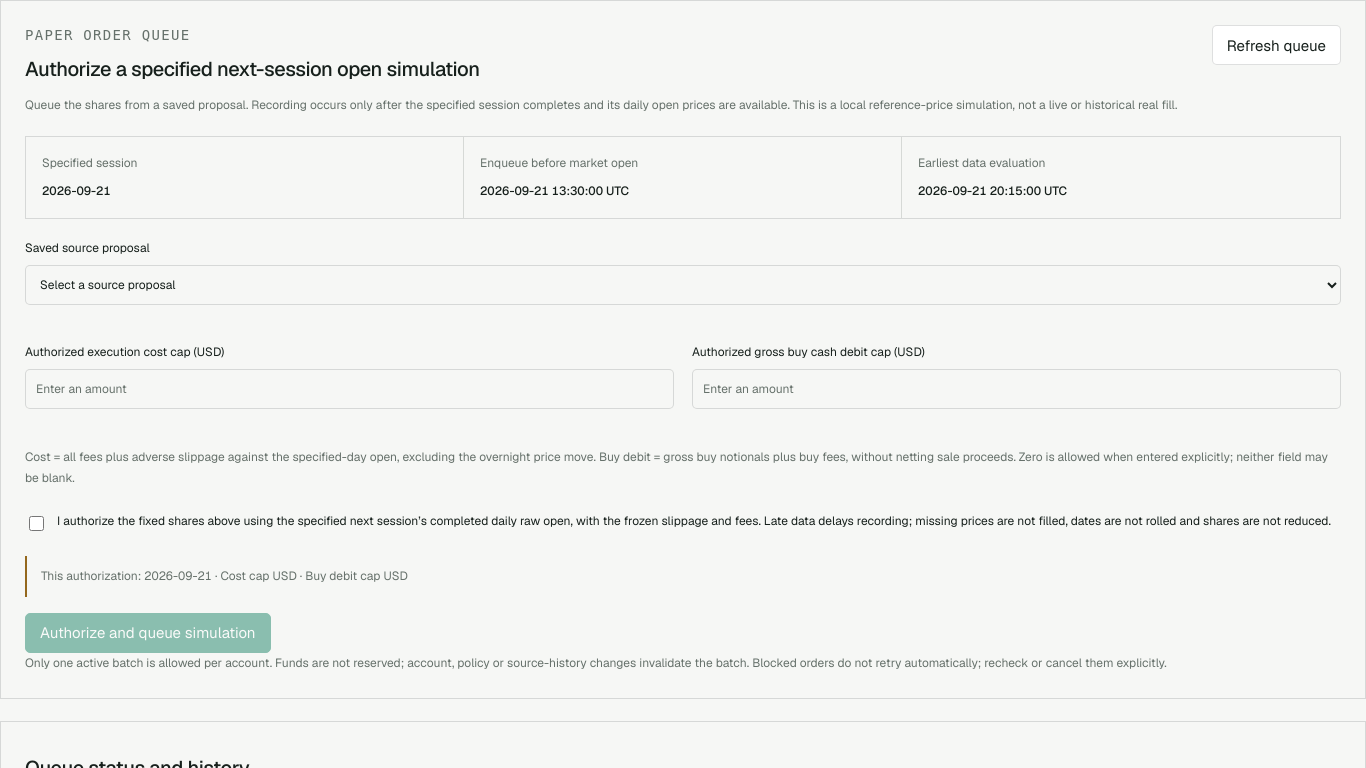
it: next-open paper queue › does not enqueue after the server-defined open cutoff even from an already rendered form
Select "synthetic-sour · 1 trades · Eligible" in the dropdown labelled "Saved source proposal" at (683, 285), box [25,265,1341,305]
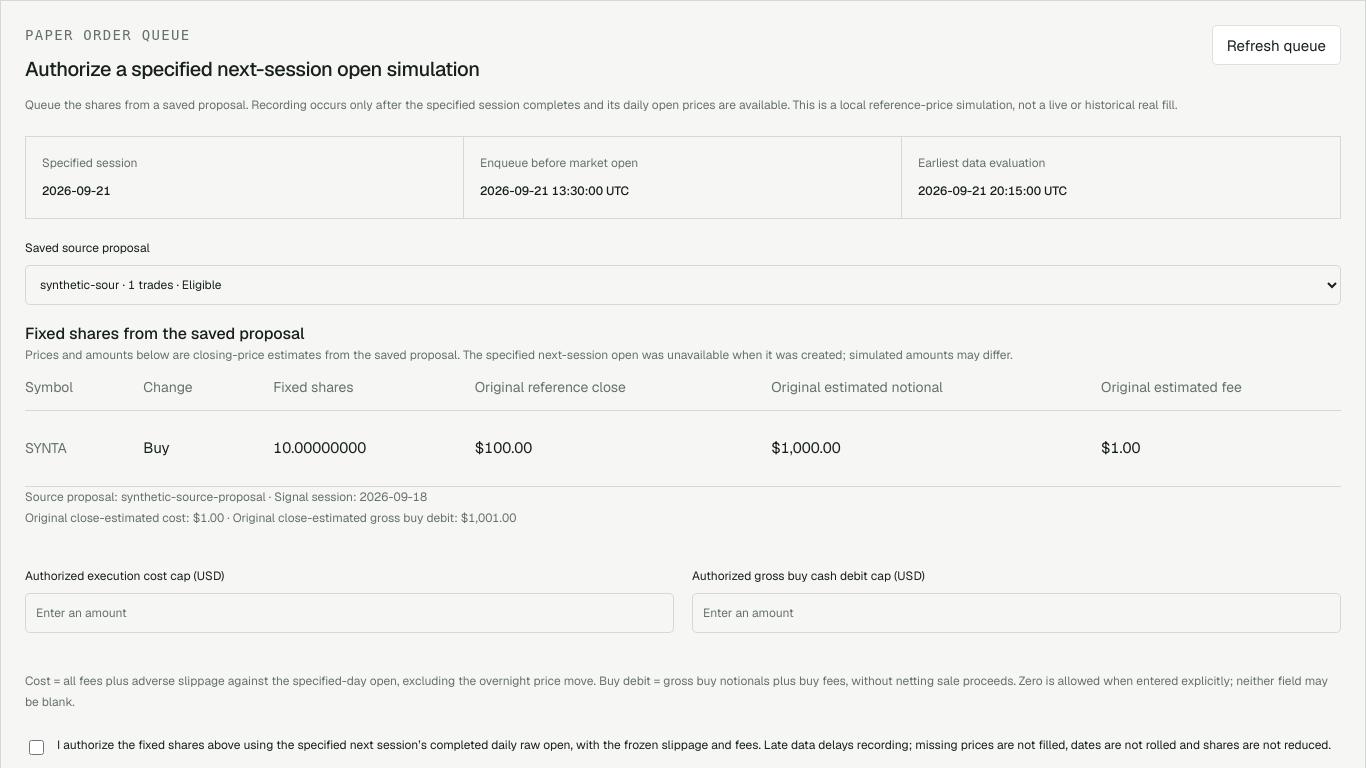
Type "20" into the field labelled "Authorized execution cost cap (USD)" at (350, 613), box [25,593,674,633]
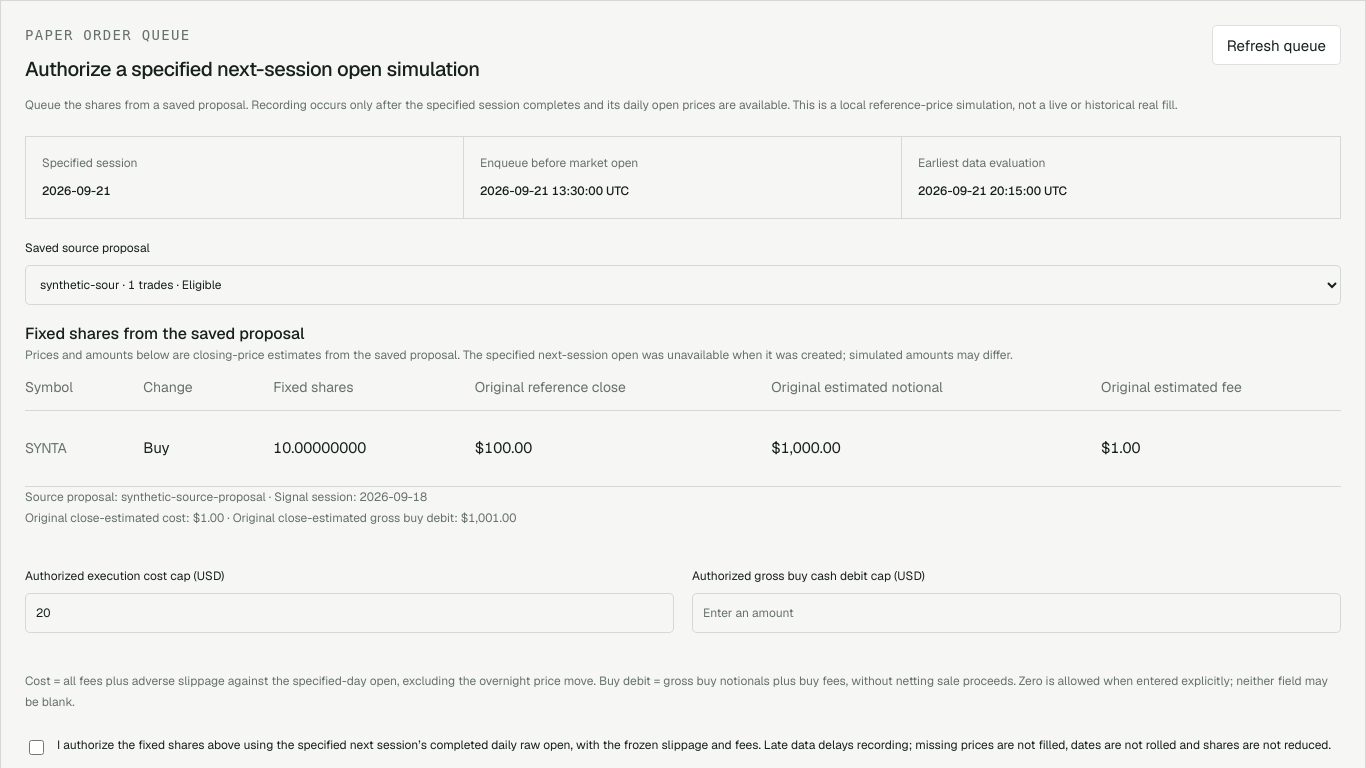
Type "1500" into the field labelled "Authorized gross buy cash debit cap (USD)" at (1016, 613), box [692,593,1341,633]
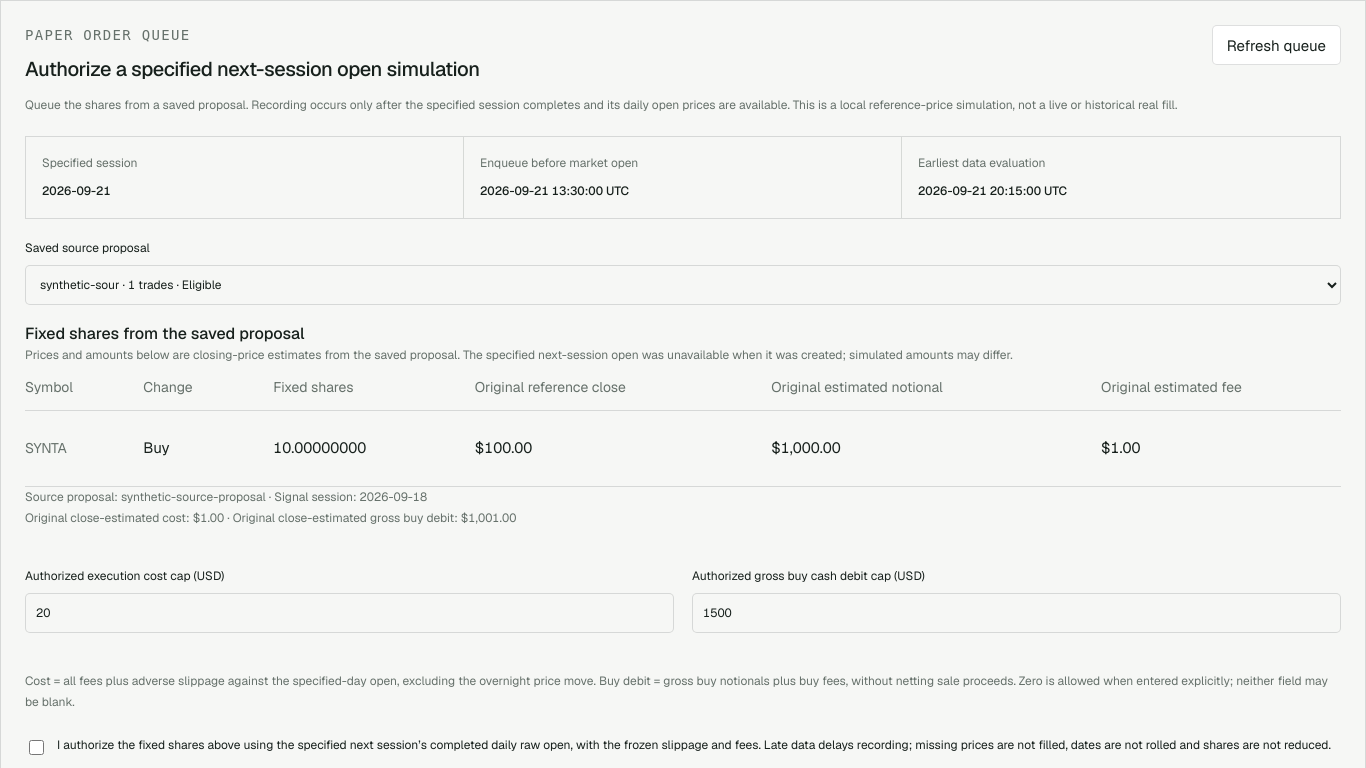
Click the checkbox at (36, 747), box [29,740,44,755]
(page scrolled)
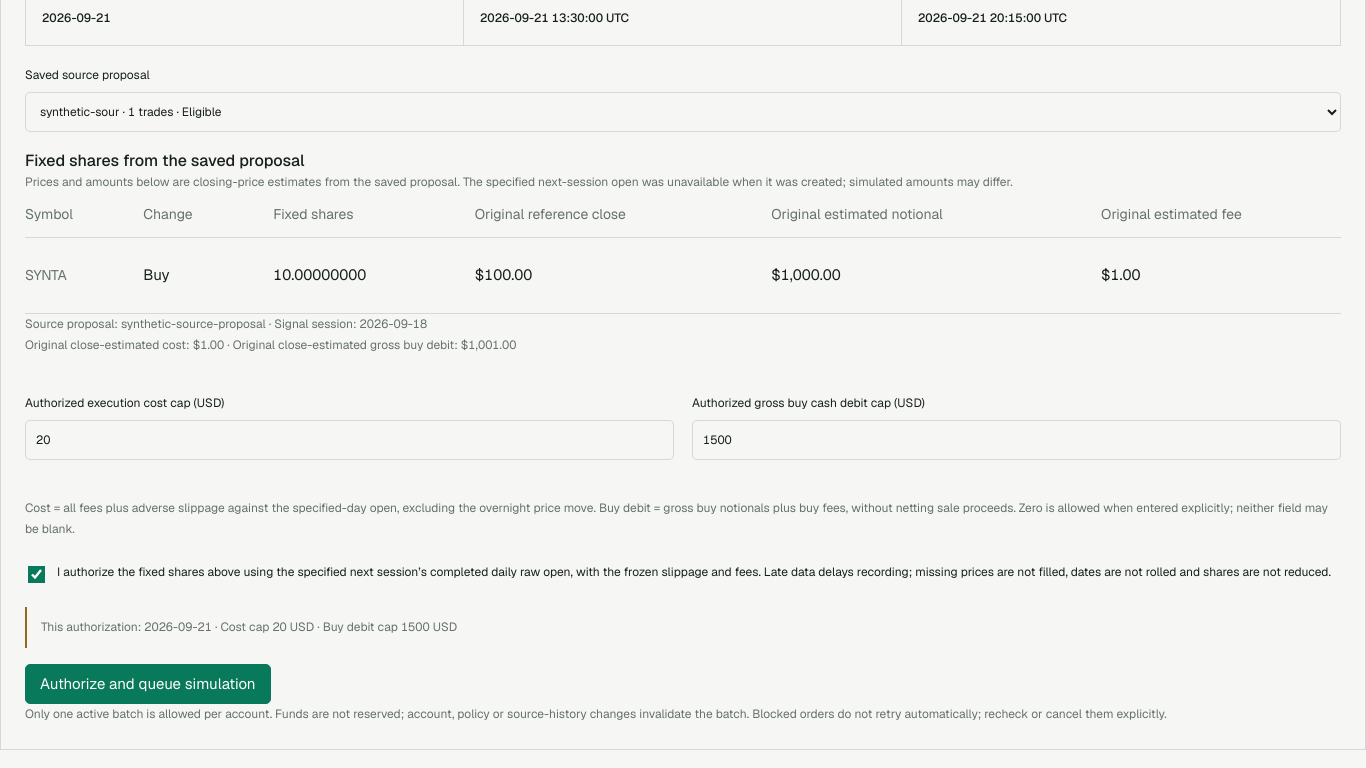
Submit the form named "Authorize and queue simulation"
(page scrolled)
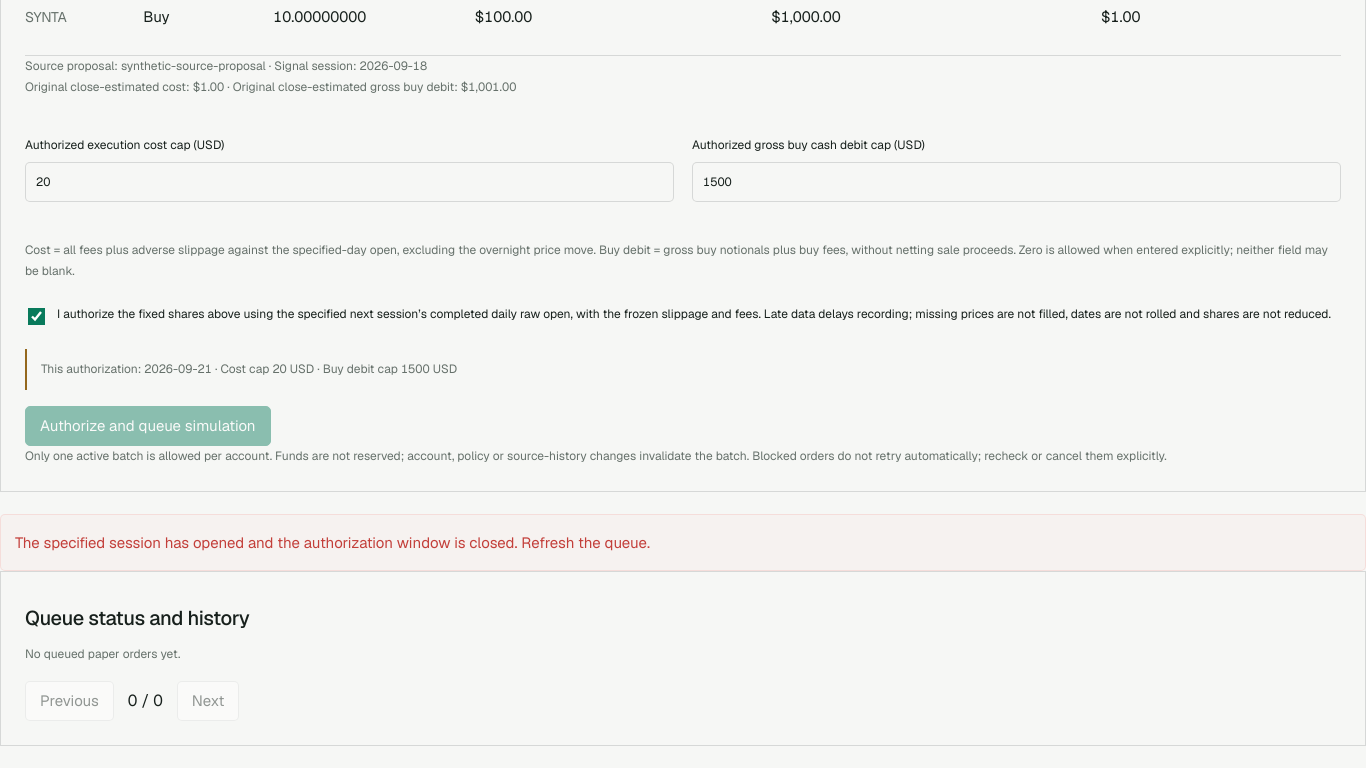
Now the text "authorization window is closed" is shown, box [15,533,650,552]
